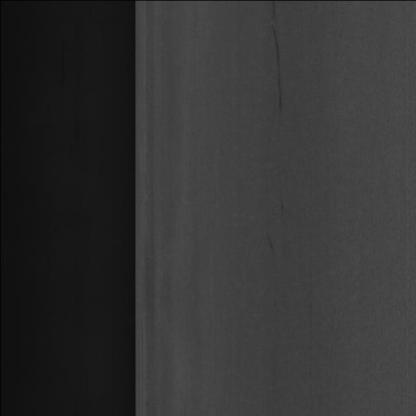inclusion: (262, 9, 294, 116)
